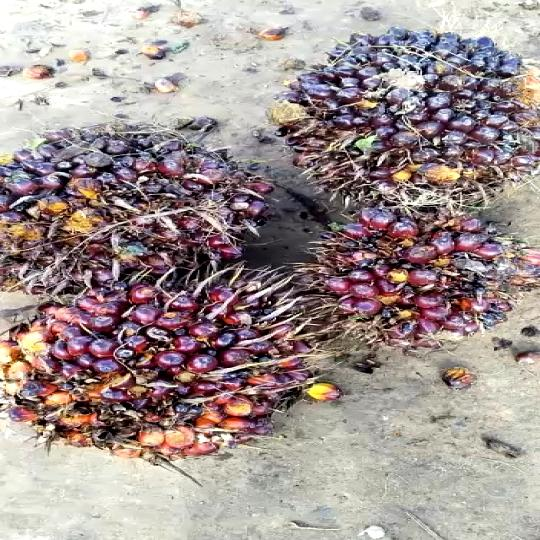masak: (0, 265, 313, 481), (0, 122, 299, 292), (262, 29, 540, 197), (276, 196, 538, 353)
